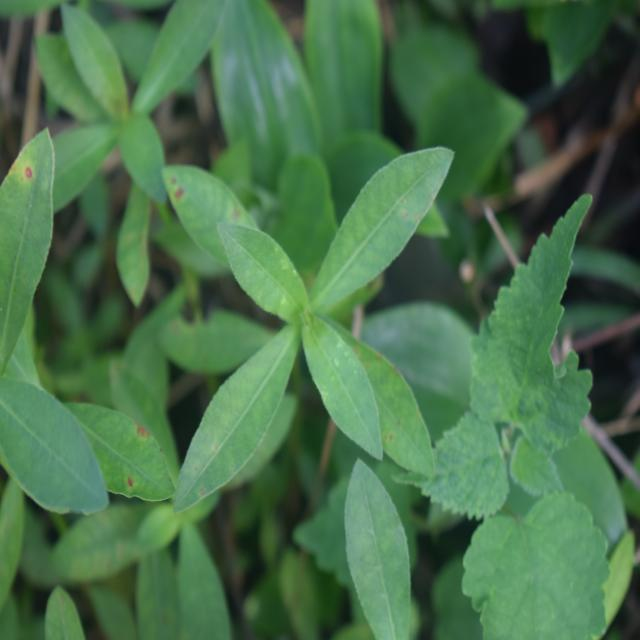Alligatorweed: (170, 132, 442, 482)
